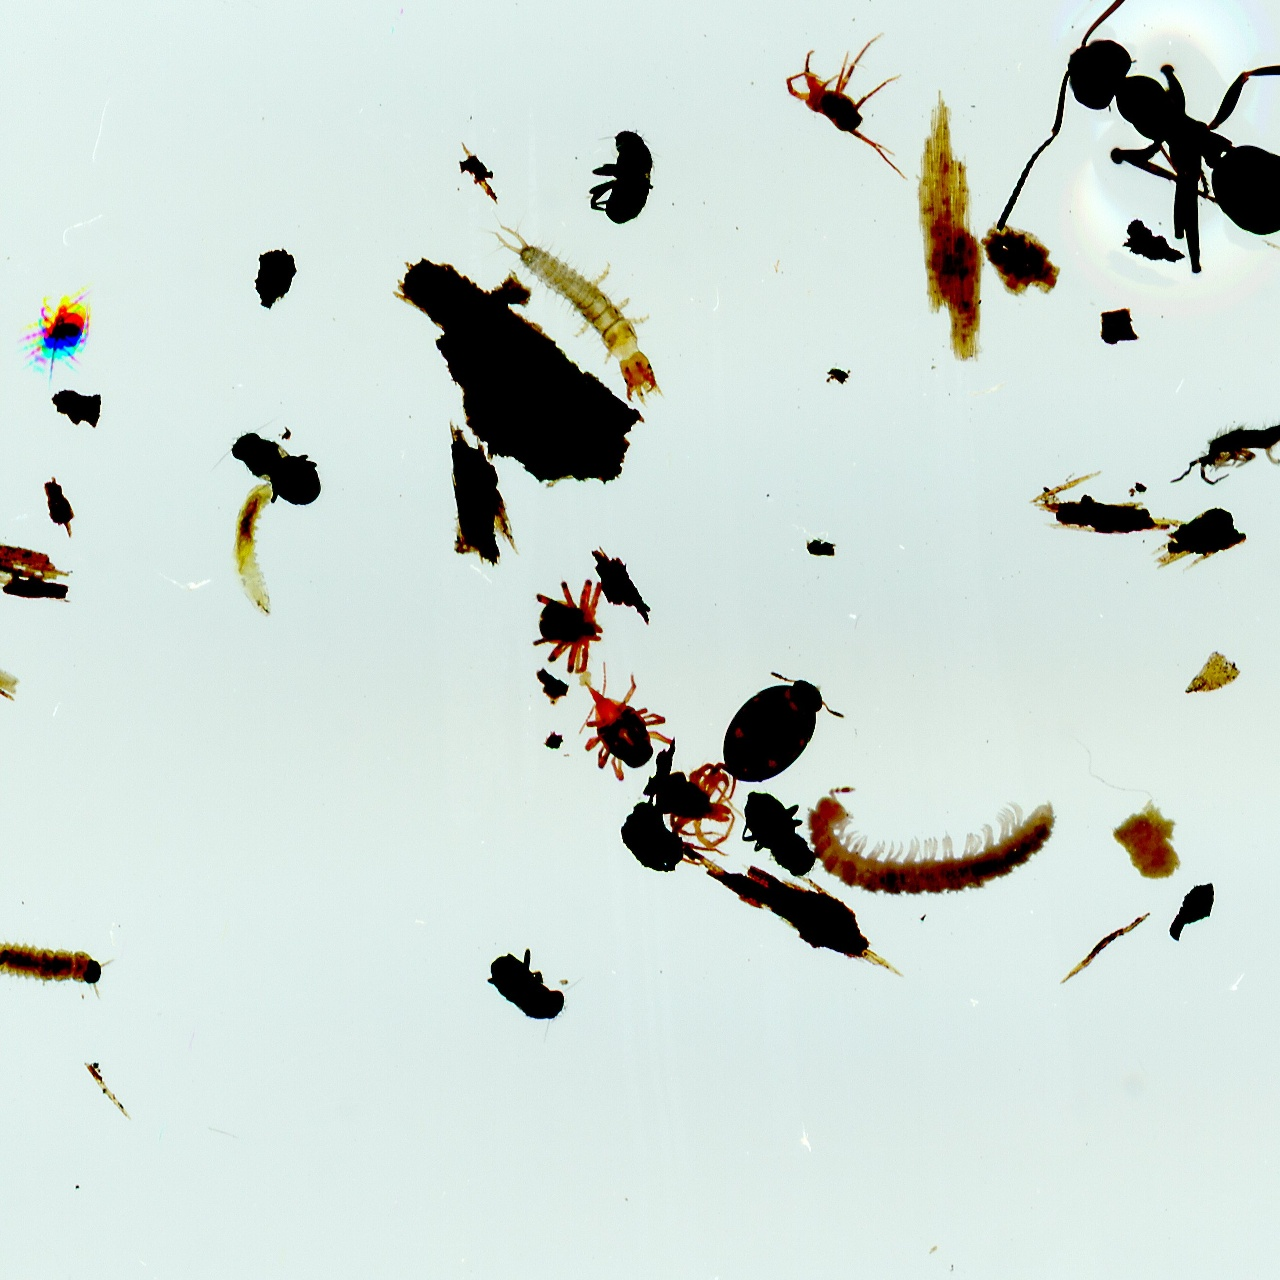arthropod: (986, 0, 1280, 278), (462, 168, 707, 422), (802, 783, 1058, 900), (203, 395, 349, 542), (782, 28, 914, 186), (0, 901, 134, 1032), (720, 669, 847, 785), (1153, 401, 1280, 508), (576, 659, 675, 784), (483, 945, 590, 1048), (662, 758, 750, 858), (225, 477, 281, 626), (12, 288, 100, 383), (587, 124, 662, 230), (738, 787, 821, 881), (530, 578, 605, 676)
